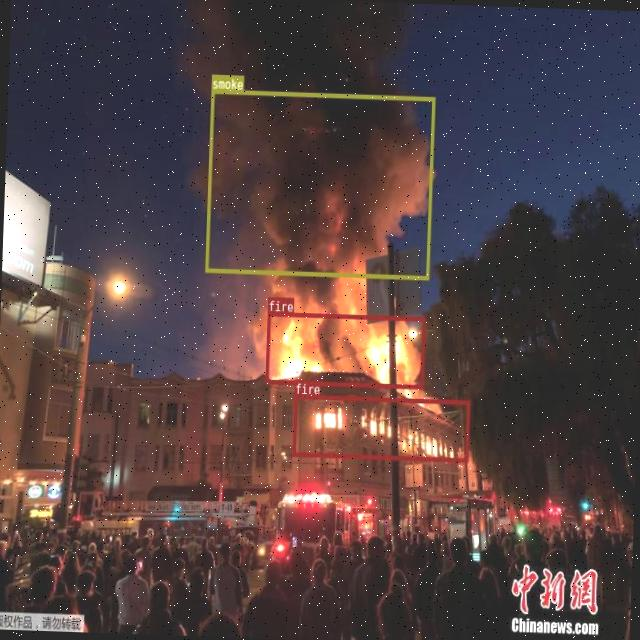fire: (264, 311, 424, 388), (292, 394, 469, 461)
smoke: (204, 88, 434, 280)
